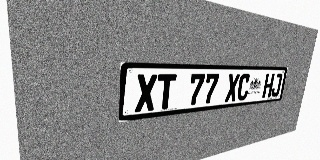7: (187, 74, 205, 106), (202, 74, 219, 105)
C: (236, 74, 251, 101)
H: (262, 74, 275, 98)
J: (271, 74, 283, 97)
T: (156, 74, 177, 110)
X: (135, 74, 157, 112), (224, 74, 240, 102)
